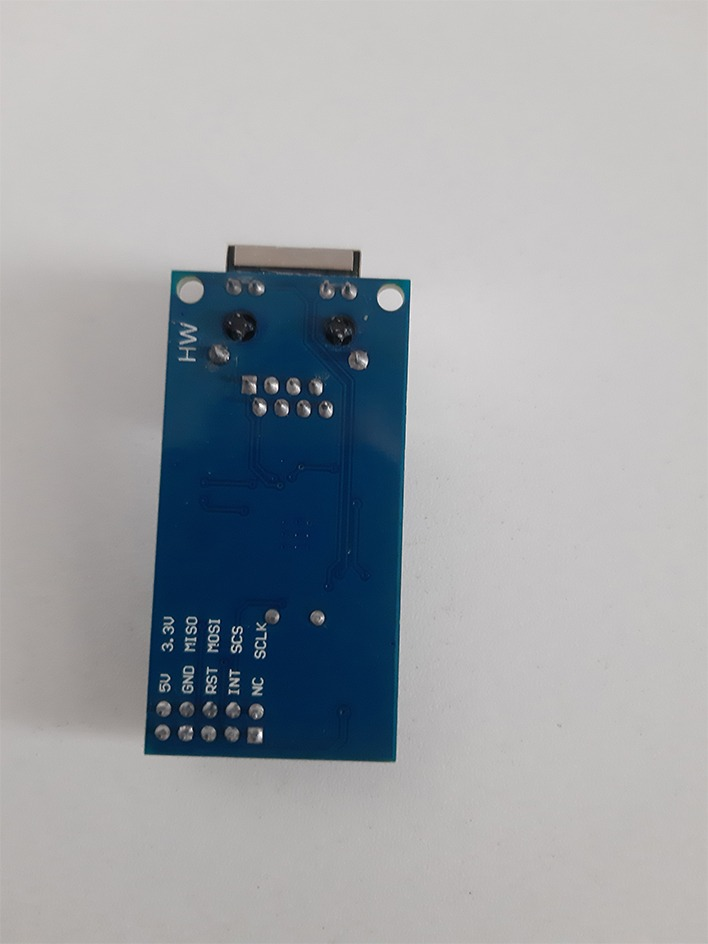Ethernet-W5500: (123, 212, 414, 799)
